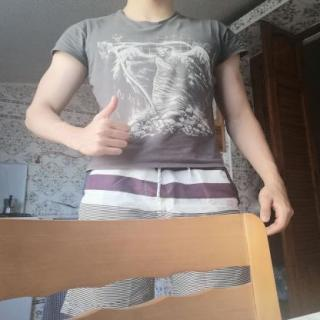ALIF: (72, 89, 140, 165)
